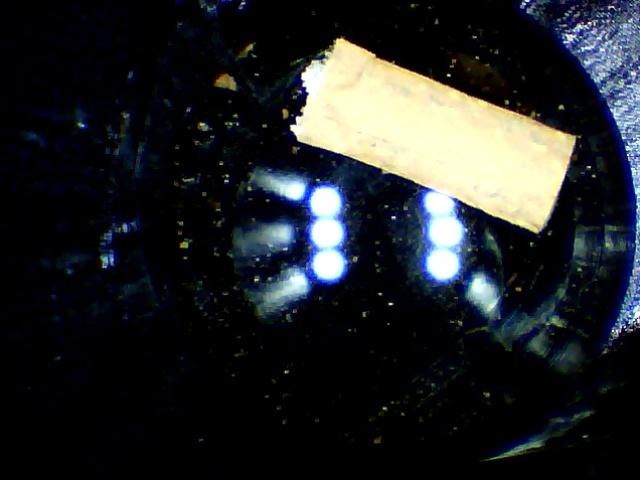megot: (279, 30, 592, 238)
